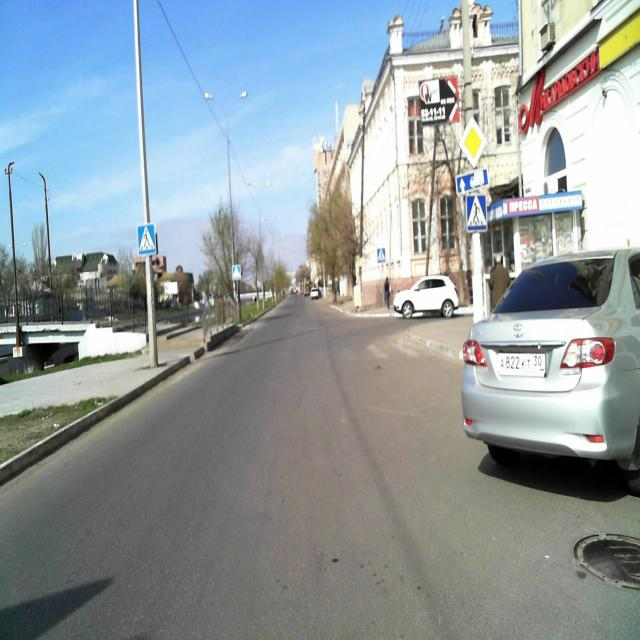road sign: (458, 117, 486, 167), (465, 193, 487, 233), (456, 169, 487, 194), (138, 223, 157, 255), (377, 248, 385, 262)
